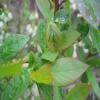Blueberry leaf: (39, 57, 95, 88), (56, 24, 88, 53), (0, 33, 33, 61), (45, 21, 62, 56), (36, 0, 53, 22), (28, 51, 36, 67)
